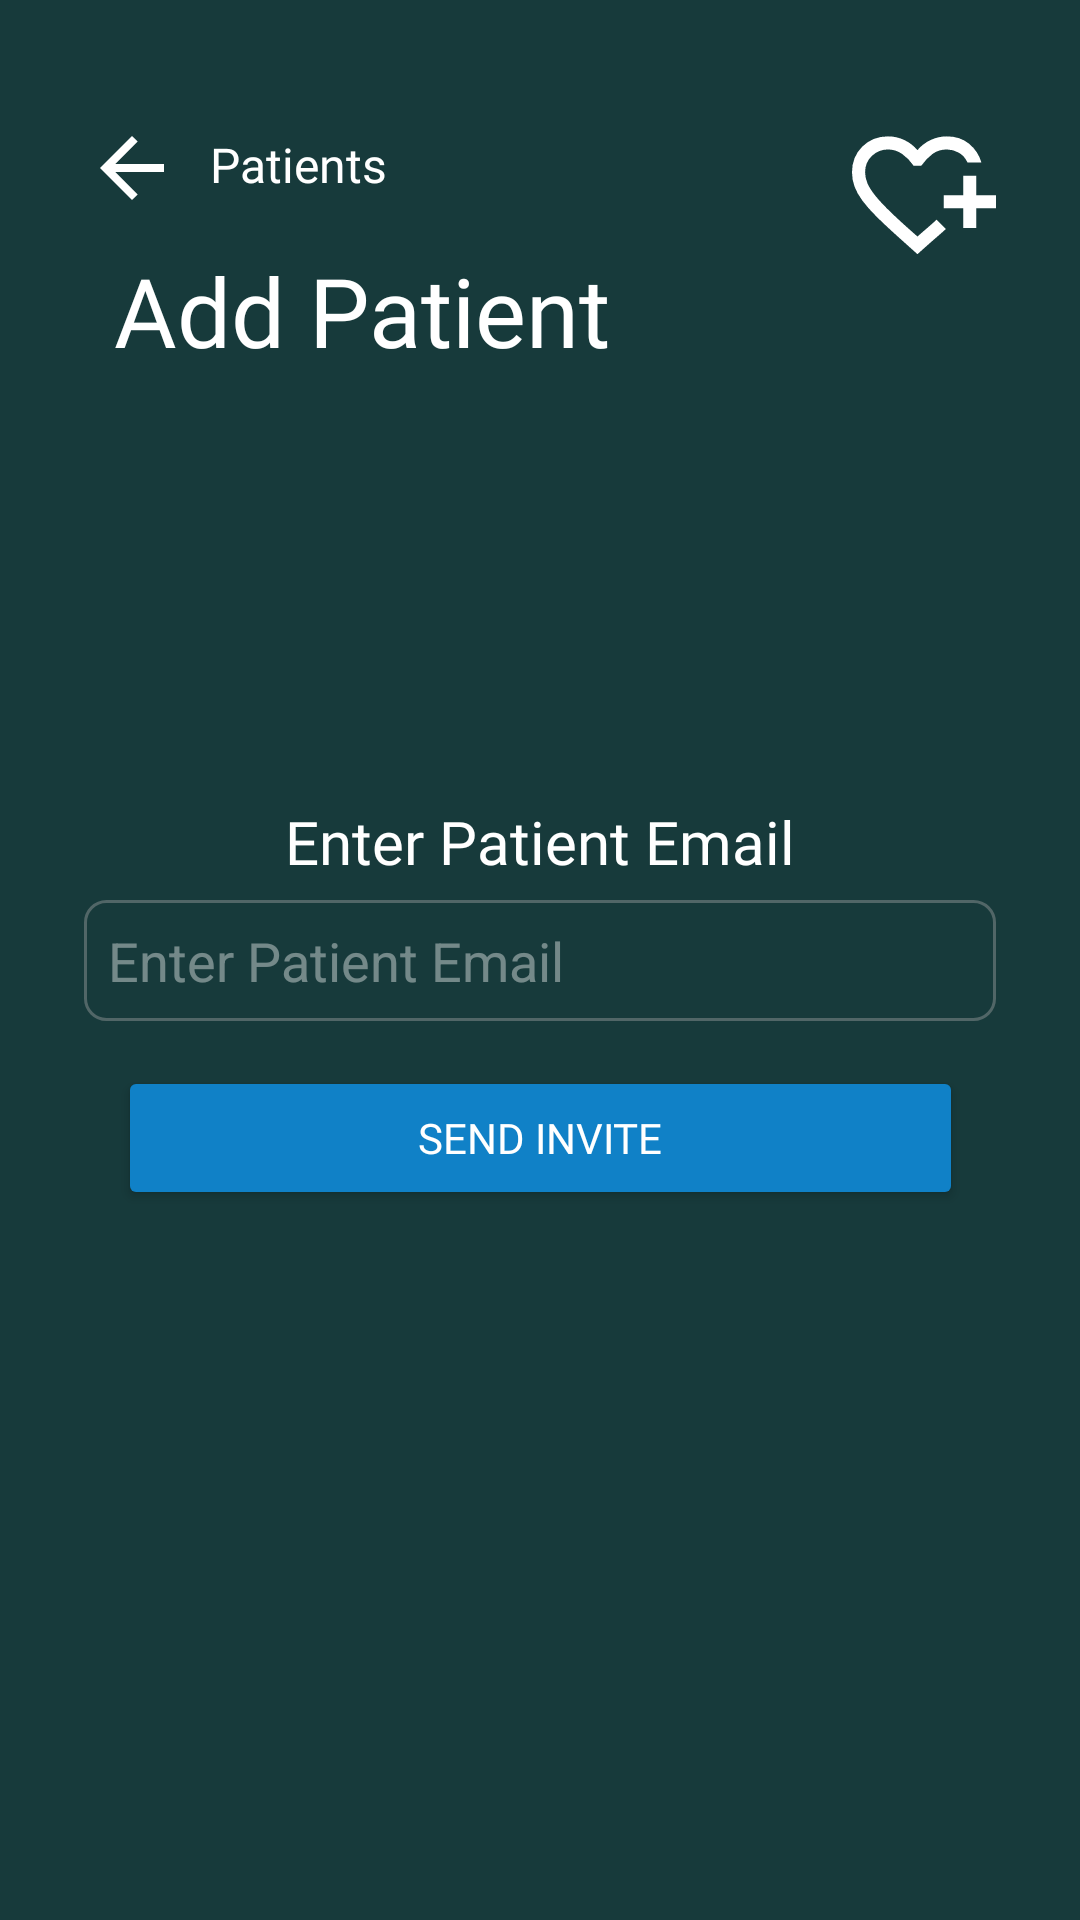

Where to tap for icons on this 1080px×1920px app screen, as point (x, y):
arrow back doctor: point (132, 168)
